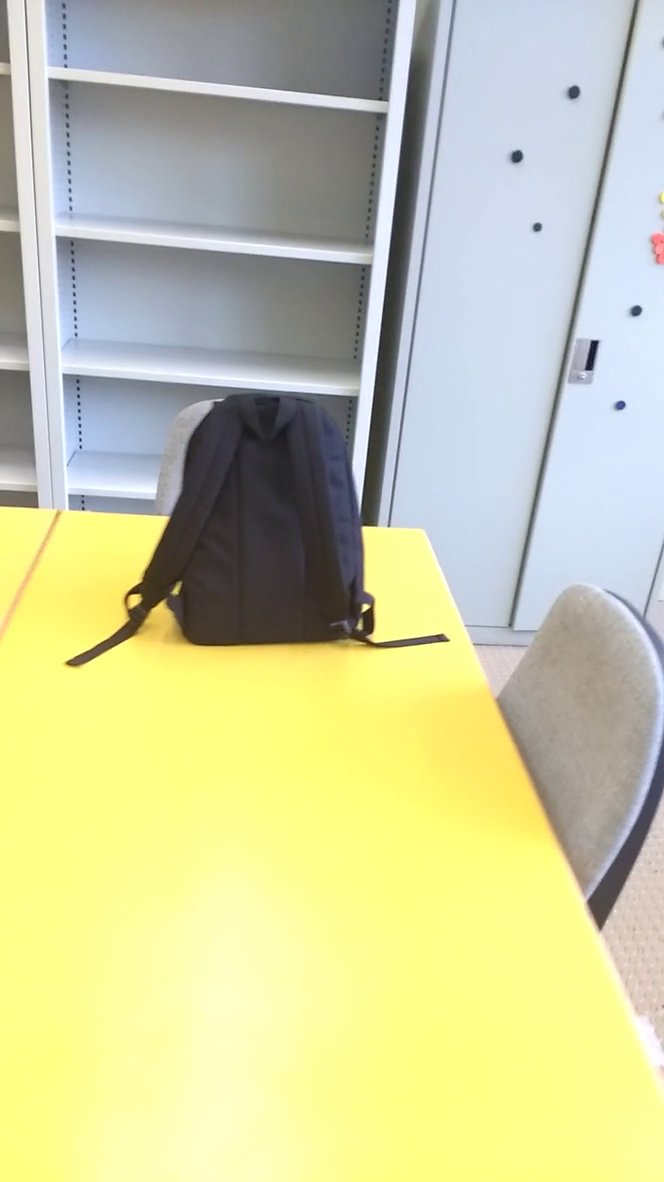bag: (59, 383, 460, 670)
chair: (482, 567, 664, 967)
